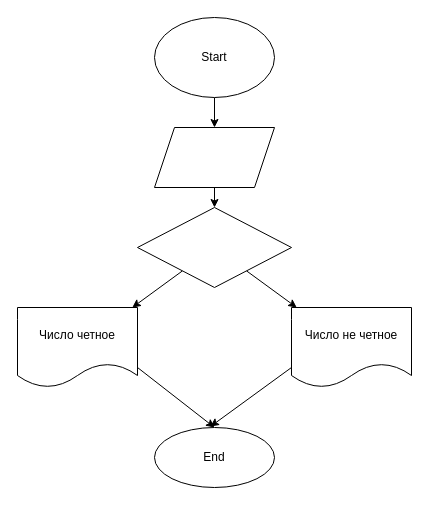
This 429x505 diagram has some shape labels left out. Here are the shapes that lost their labels. From the top down, the box of each, then its label:
(154, 126, 274, 188): a= int . Parse
(136, 206, 292, 288): a % 2==0
